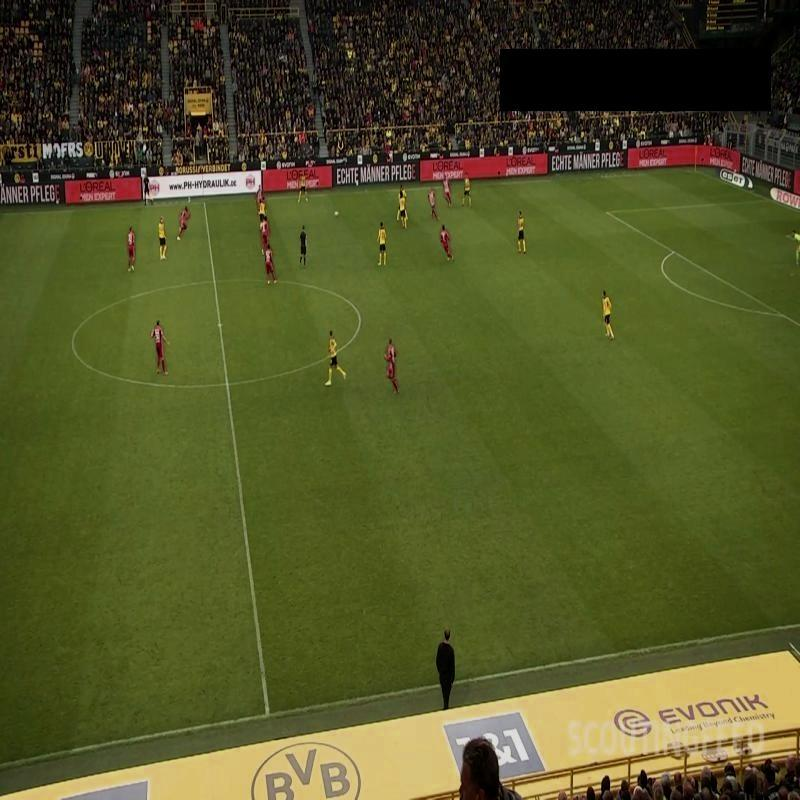1: (686, 163, 700, 177)
10: (666, 245, 681, 258)
11: (772, 306, 790, 322)
13: (197, 194, 211, 208)
14: (206, 274, 220, 288)
15: (219, 376, 236, 392)
16: (259, 703, 277, 726)
2: (760, 193, 774, 207)
7: (783, 228, 797, 242)
9: (600, 204, 614, 218)
c: (344, 302, 376, 332), (63, 332, 82, 358)
